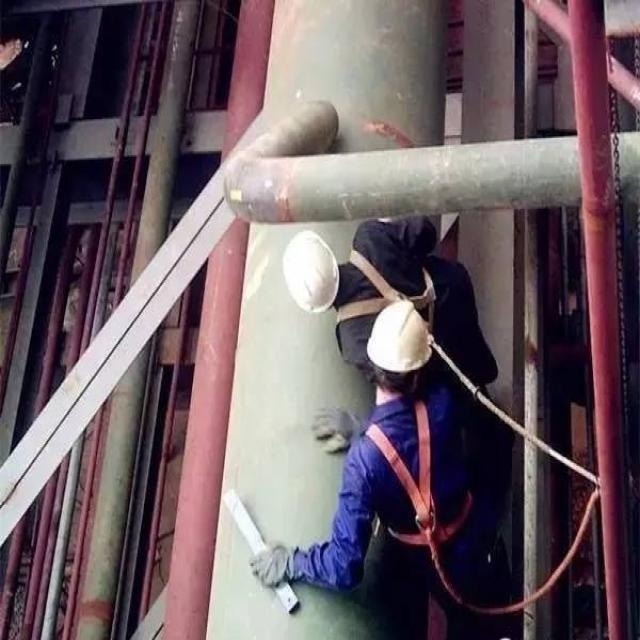Arnes_seguridad: (359, 396, 478, 553), (324, 237, 443, 330)
